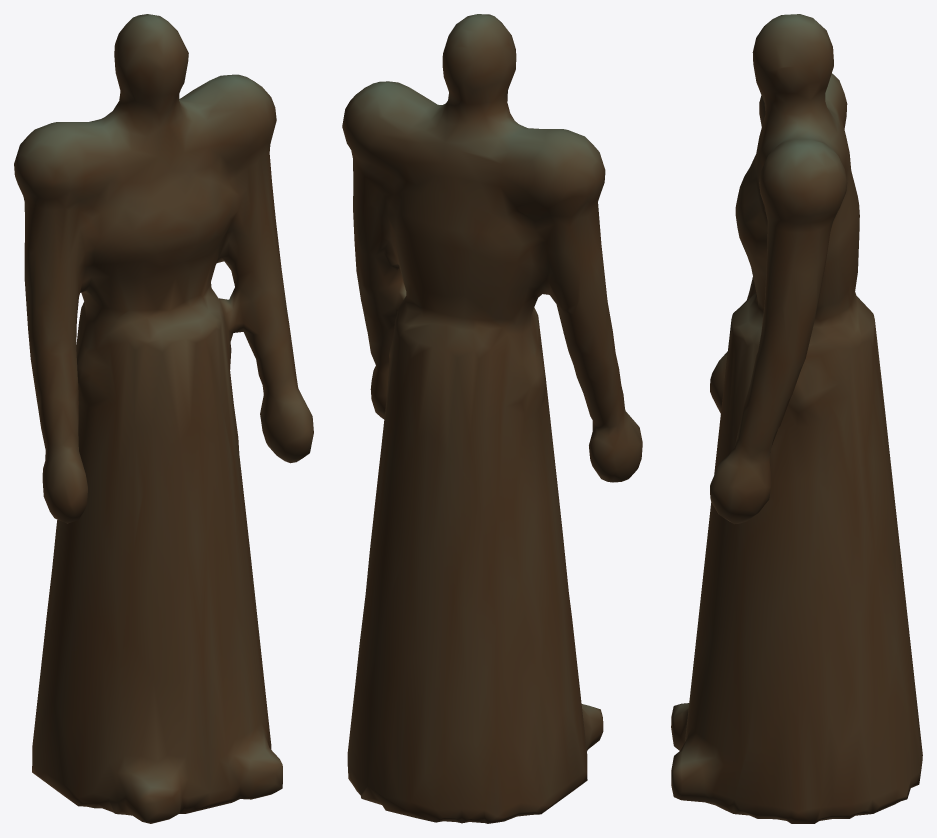
Rendered from street2.glb.
3 renders of one model, left to right at view 1: azimuth 30°, elevation 25°; view 2: azimuth 150°, elevation 25°; view 3: azimuth 270°, elevation 25°, orthographic.
Visible parts, largest first — view 1: sv_m; view 2: sv_m; view 3: sv_m.
Part boxes in pixels (box(x1,y1,x2,y2)): sv_m: box(14, 14, 313, 823); sv_m: box(342, 14, 642, 823); sv_m: box(671, 14, 922, 823).
Size of the model in its own units: 0.3642 by 1 by 0.3029.
